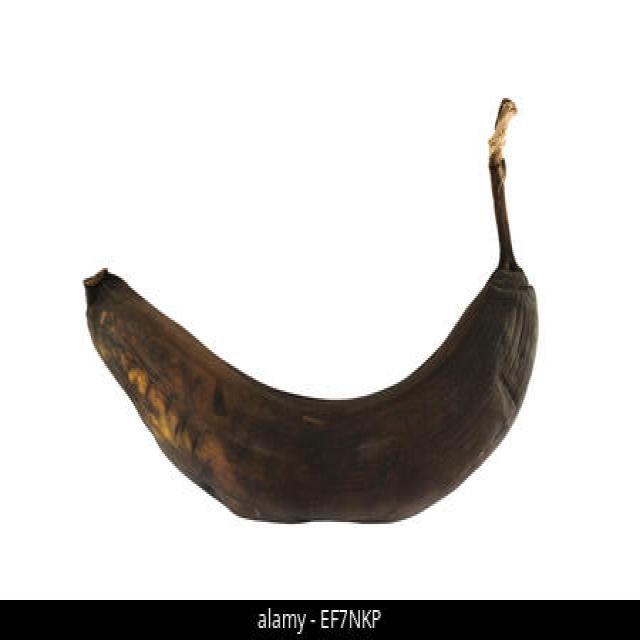Rotten: (81, 94, 539, 524)
